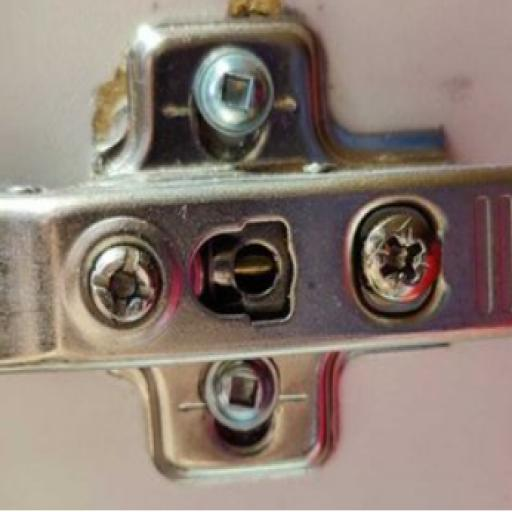Phillips: (362, 214, 443, 308), (80, 244, 166, 330)
